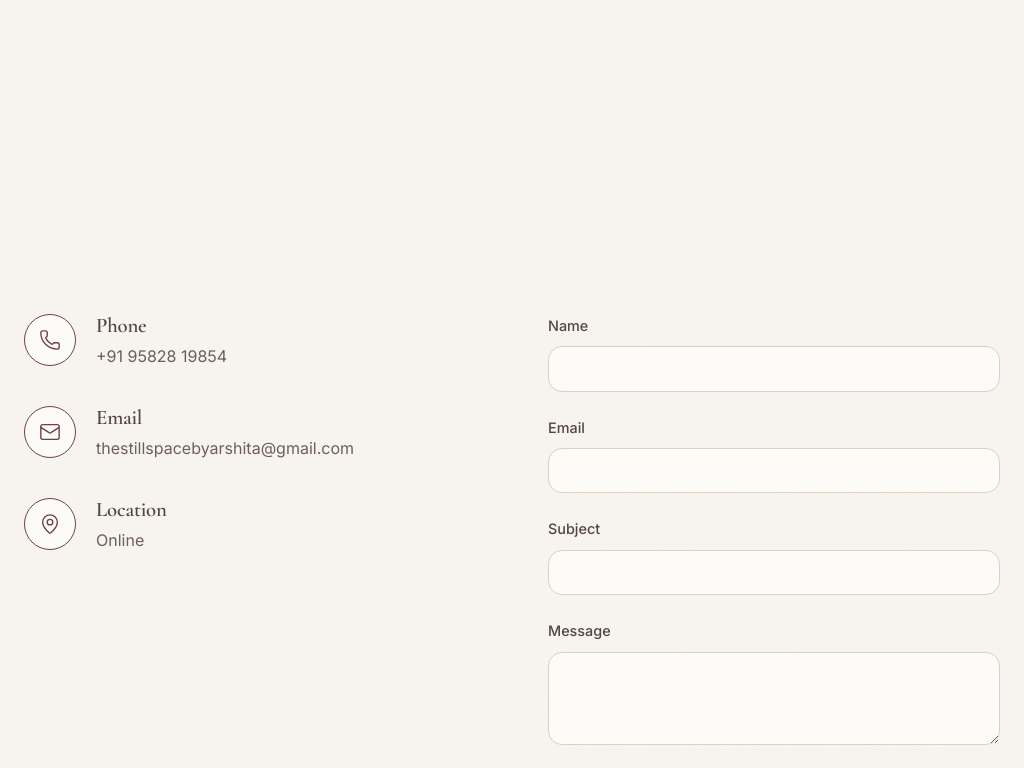
Contact › opens a mailto link to the configured email on submit with subject and body
The width and height of the screenshot is (1024, 768).
In the field labelled "Name": (774, 369) [548,346,1000,392], type "Priya Rao"
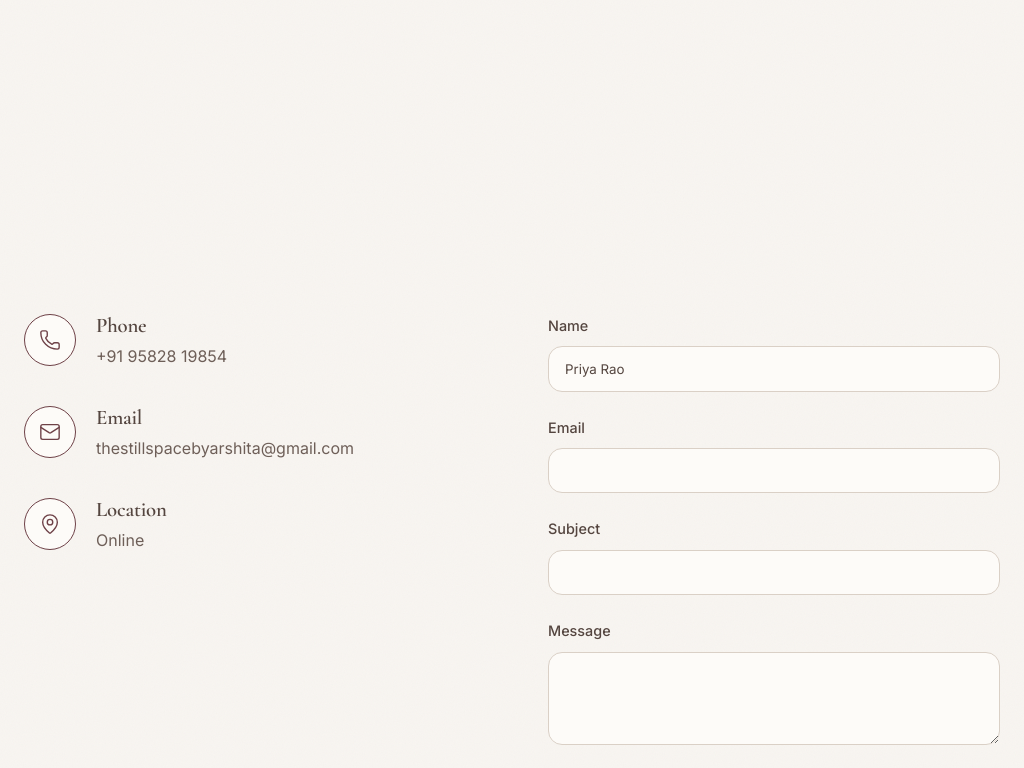
In the field labelled "Email": (774, 471) [548,448,1000,493], type "priya@example.com"
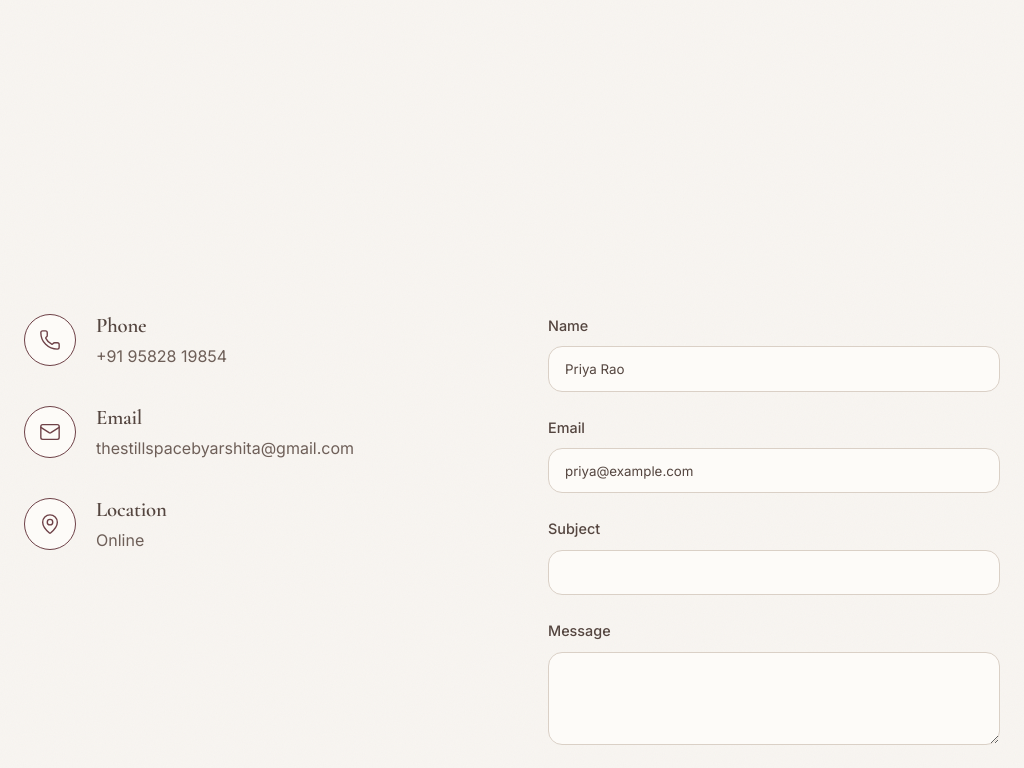
In the field labelled "Subject": (774, 572) [548,550,1000,595], type "Consultation"
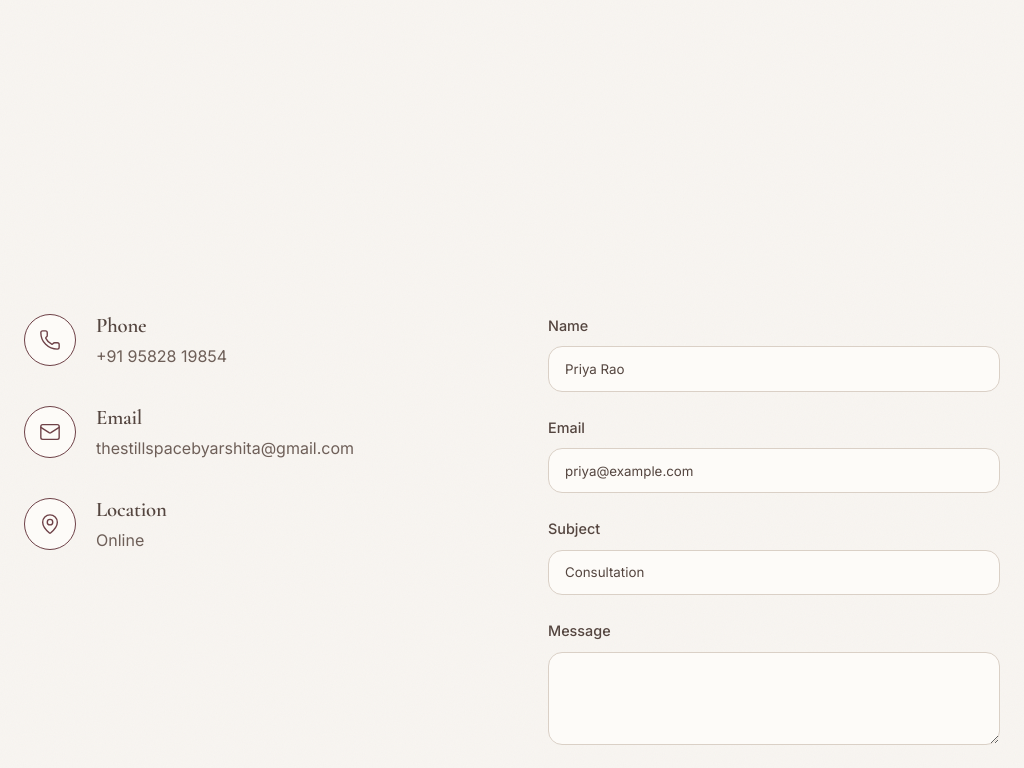
In the text box labelled "Message": (774, 698) [548,652,1000,745], type "I would like consultation."
(page scrolled)
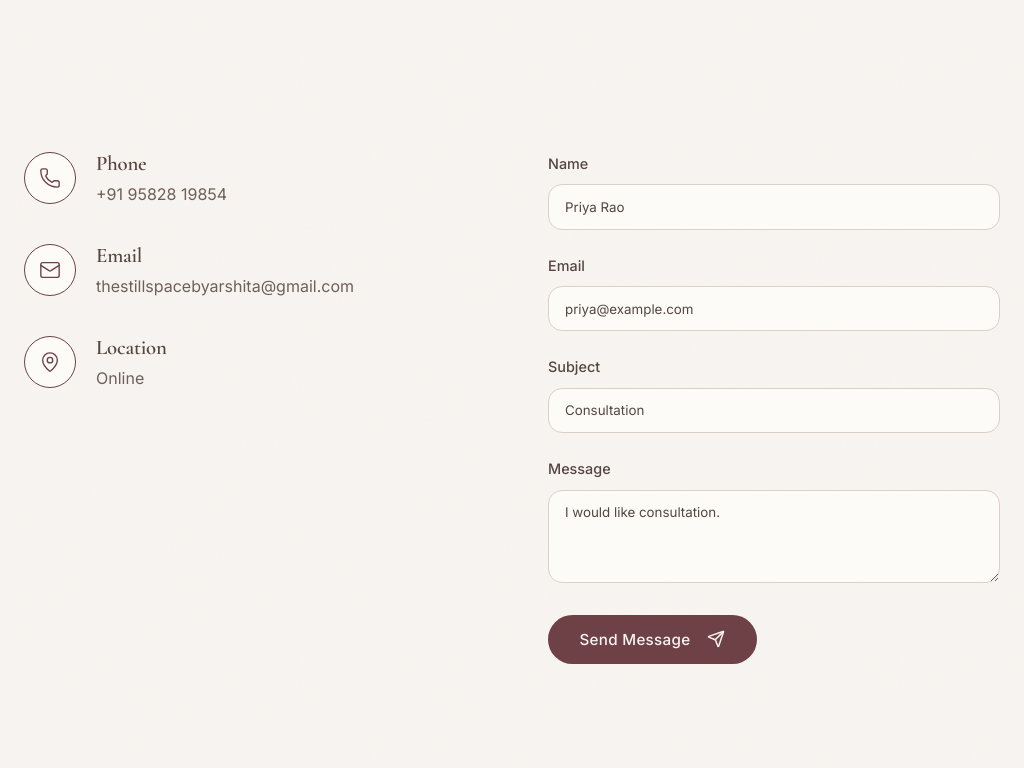
Click the button "Send Message": (652, 639) [548,615,757,664]
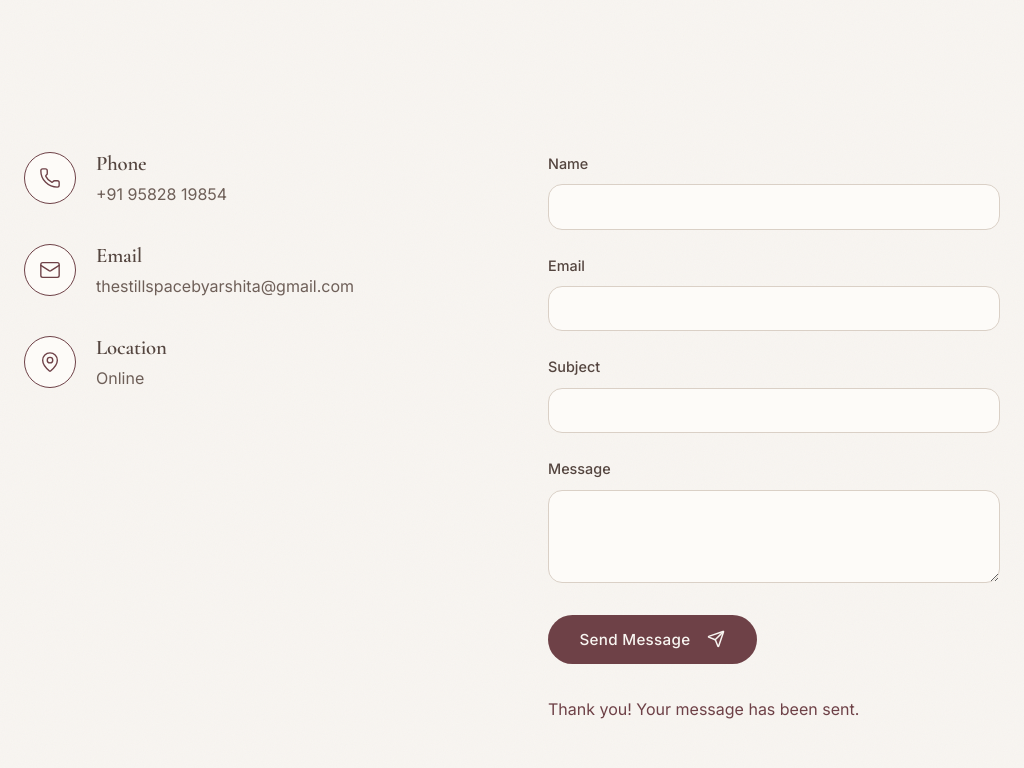
Expected: the text "Thank you! Your message has been sent." is shown, [548,699,859,719]
